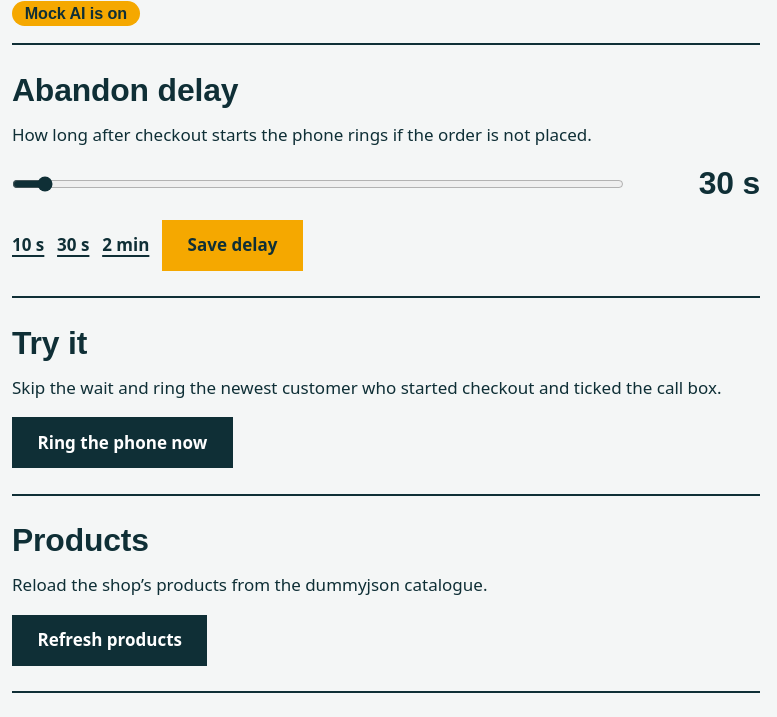
Test: DemoControls › refreshes the products and reports how many loaded
The image size is (777, 717).
Expected: the slider named "Abandon delay in seconds" is shown, [12,176,624,192]
Click the button "Refresh products" at (110, 640), box [12,615,208,666]
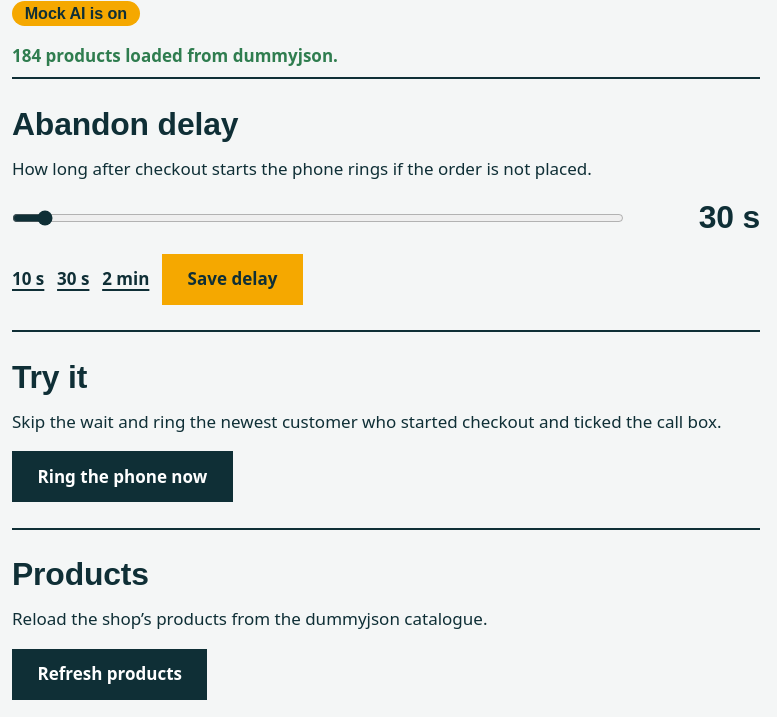
Expected: the text "184 products loaded from dummyjson." is shown, [12,44,338,67]
